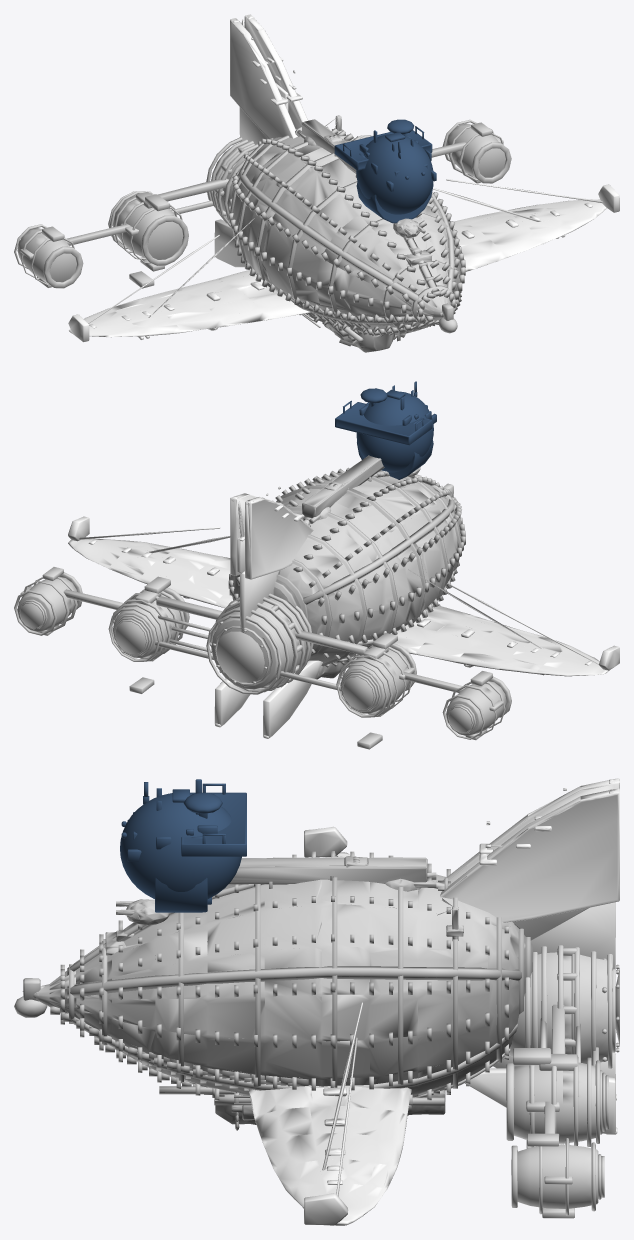
File: ship.glb
3 renders of one model, top to bottom at view 1: azimuth 30°, elevation 25°; view 2: azimuth 150°, elevation 25°; view 3: azimuth 270°, elevation 25°, orthographic. The views are drawn at different scales.
Visible parts, largest first — view 1: VR_Ship_Hull, VR_Ship_Wings, VR_Ship_Engine, VR_Ship_Fin, VR_Ship_Cockpit, VR_Ship_Nozzle; view 2: VR_Ship_Hull, VR_Ship_Engine, VR_Ship_Wings, VR_Ship_Fin, VR_Ship_Nozzle, VR_Ship_Cockpit; view 3: VR_Ship_Hull, VR_Ship_Engine, VR_Ship_Fin, VR_Ship_Wings, VR_Ship_Cockpit, VR_Ship_Nozzle.
Part boxes in pixels (x1=…): VR_Ship_Hull: x1=228, y1=115, x2=465, y2=352; VR_Ship_Wings: x1=68, y1=179, x2=619, y2=342; VR_Ship_Engine: x1=14, y1=119, x2=511, y2=288; VR_Ship_Fin: x1=214, y1=14, x2=307, y2=267; VR_Ship_Cockpit: x1=334, y1=119, x2=436, y2=223; VR_Ship_Nozzle: x1=109, y1=135, x2=372, y2=248; VR_Ship_Hull: x1=228, y1=455, x2=465, y2=679; VR_Ship_Engine: x1=14, y1=567, x2=511, y2=749; VR_Ship_Wings: x1=68, y1=516, x2=619, y2=676; VR_Ship_Fin: x1=214, y1=486, x2=322, y2=738; VR_Ship_Nozzle: x1=19, y1=599, x2=477, y2=733; VR_Ship_Cockpit: x1=335, y1=381, x2=436, y2=479; VR_Ship_Hull: x1=14, y1=851, x2=532, y2=1130; VR_Ship_Engine: x1=502, y1=945, x2=612, y2=1218; VR_Ship_Fin: x1=440, y1=778, x2=619, y2=1134; VR_Ship_Wings: x1=248, y1=826, x2=411, y2=1225; VR_Ship_Cockpit: x1=120, y1=779, x2=246, y2=912; VR_Ship_Nozzle: x1=587, y1=958, x2=619, y2=1199.
Size of the model in its own units: 4.01 by 1.68 by 2.76.
